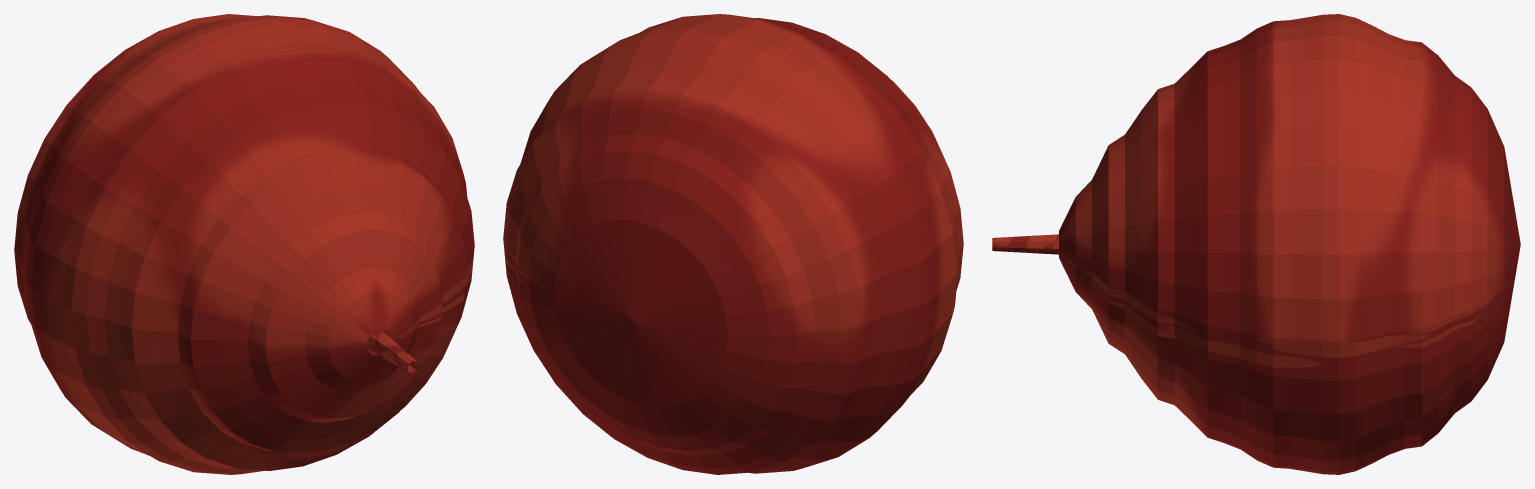
File: apple_07_realistic.obj
3 renders of one model, left to right at view 1: azimuth 30°, elevation 25°; view 2: azimuth 150°, elevation 25°; view 3: azimuth 270°, elevation 25°, orthographic. The views are drawn at different scales.
Size of the model in its own units: 2 by 2 by 2.29.
1 material, 1 textured.
